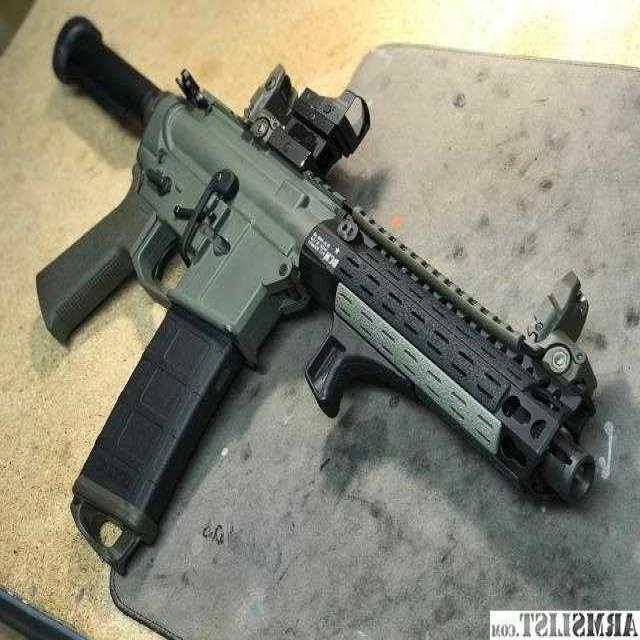heavyweapon: (1, 1, 612, 574)
